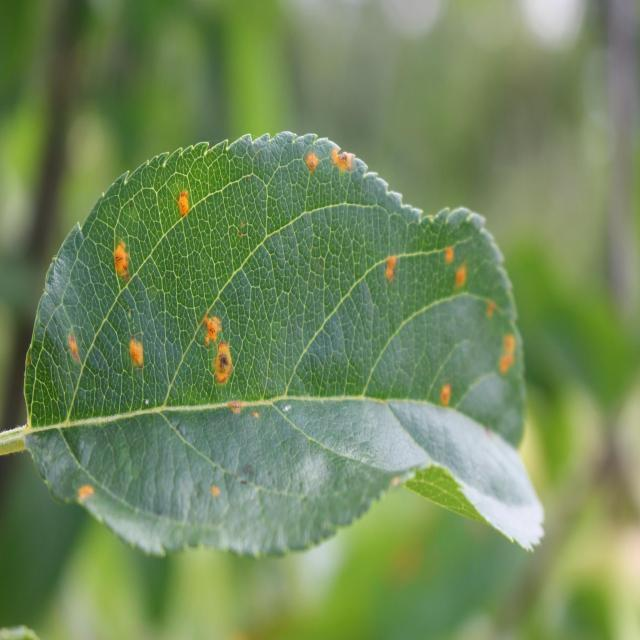Rust: (100, 233, 138, 298), (190, 296, 229, 348), (120, 334, 154, 391), (327, 139, 368, 183), (430, 369, 460, 429), (210, 332, 233, 406), (493, 326, 521, 384), (64, 476, 104, 516), (373, 246, 403, 292), (58, 327, 87, 372), (446, 260, 485, 292), (170, 180, 192, 228), (296, 150, 329, 174), (201, 472, 226, 502), (485, 293, 498, 341), (440, 236, 457, 269)
